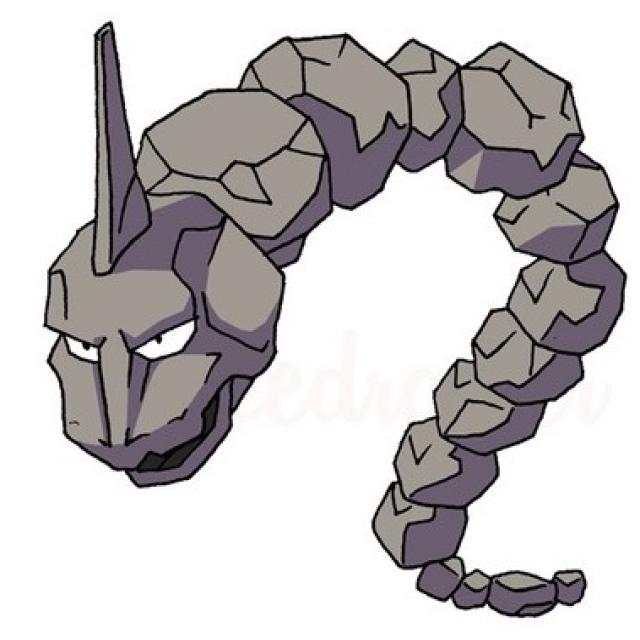Onix: (47, 35, 587, 478)
